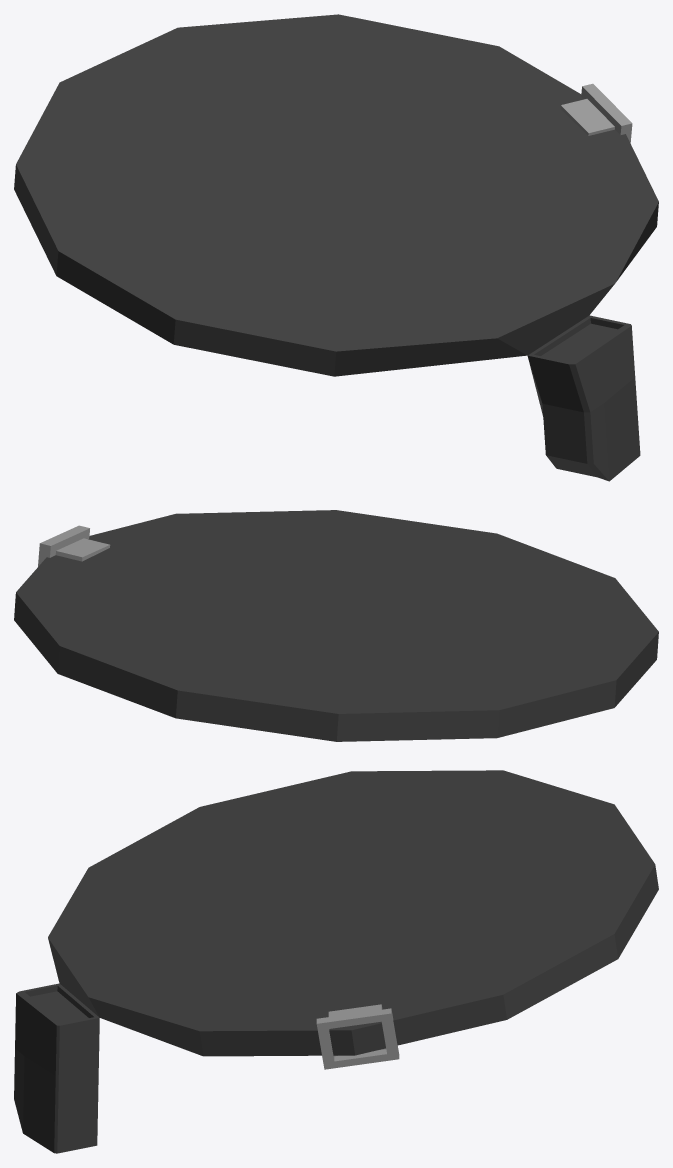
File: Holster_Black.fbx
3 views of the same model, one above another, from view 1: azimuth 30°, elevation 25°; view 2: azimuth 150°, elevation 25°; view 3: azimuth 270°, elevation 25° (orthographic). The views are drawn at different scales.
Visible parts, largest first — view 1: HolsterBelt, BeltBuckle, Holster inside; view 2: HolsterBelt, BeltBuckle; view 3: HolsterBelt, BeltBuckle, Holster inside.
Boxes of the visible parts, x1,y1,x2,y2 form: HolsterBelt: [14, 14, 658, 481]; BeltBuckle: [560, 83, 632, 142]; Holster inside: [541, 323, 617, 361]; HolsterBelt: [14, 510, 658, 741]; BeltBuckle: [38, 525, 110, 566]; HolsterBelt: [14, 770, 658, 1153]; BeltBuckle: [316, 1004, 399, 1069]; Holster inside: [30, 991, 88, 1023].
Size of the model in its own units: 247 by 100 by 260.
1 material, 1 textured.
